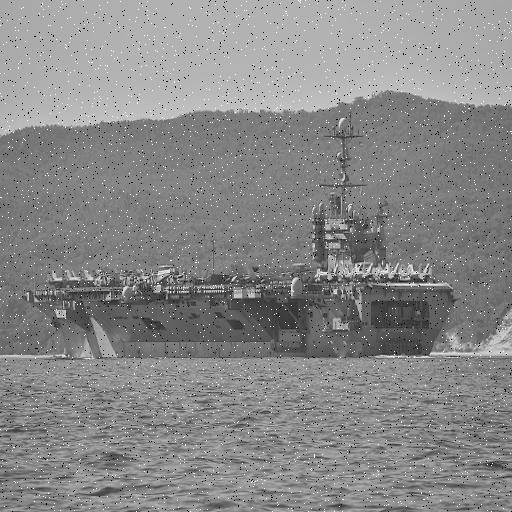Portanaves: (23, 114, 462, 362)
